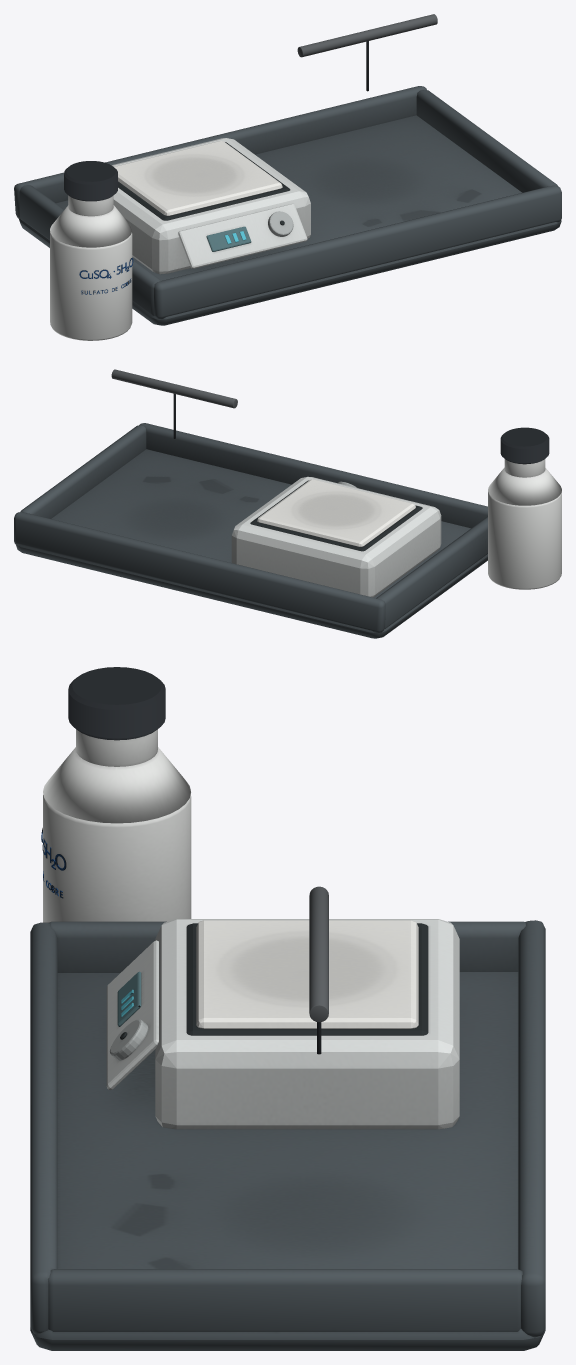
3 renders of one model, top to bottom at view 1: azimuth 30°, elevation 25°; view 2: azimuth 150°, elevation 25°; view 3: azimuth 270°, elevation 25°, orthographic. The views are drawn at different scales.
Size of the model in its own units: 2.59 by 0.875 by 1.32.
1 material, 1 textured.
